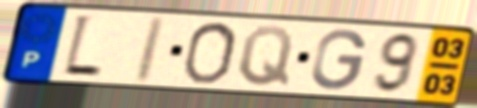9: (370, 31, 423, 95)
G: (309, 27, 370, 92)
I: (129, 14, 169, 85)
L: (59, 12, 106, 81)
O: (179, 20, 240, 86)
Q: (236, 23, 297, 88)
